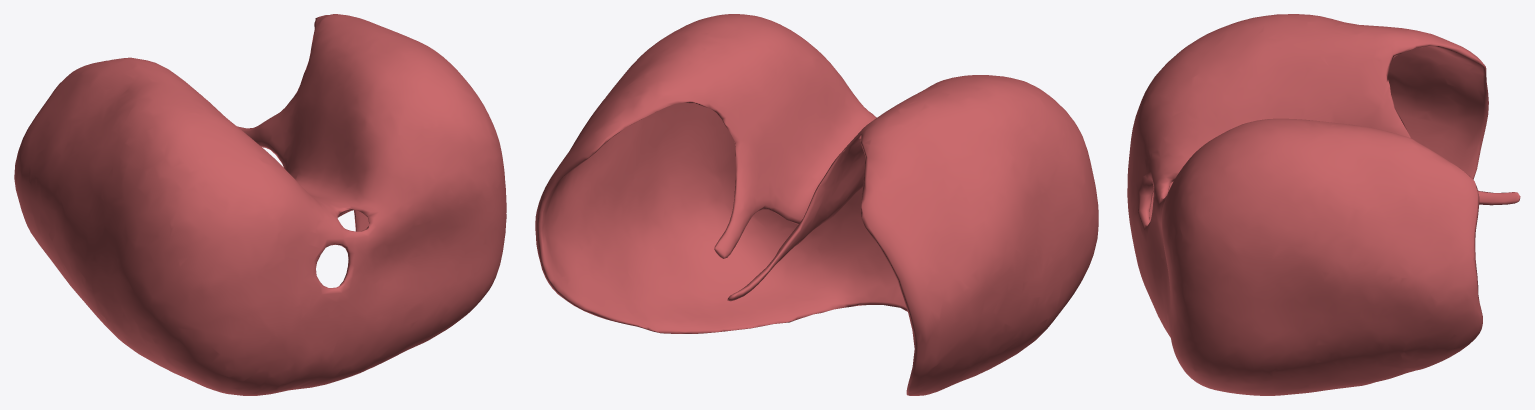
The picture shows the model from 3 angles, left to right: view 1: azimuth 30°, elevation 25°; view 2: azimuth 150°, elevation 25°; view 3: azimuth 270°, elevation 25°; orthographic projection. The views are drawn at different scales.
Parts seen in each view (by area): view 1: 膈; view 2: 膈; view 3: 膈.
Part boxes in pixels (x1,y1,x2,y2): 膈: [14, 14, 506, 395]; 膈: [535, 14, 1098, 395]; 膈: [1127, 14, 1520, 395].
Bounding box in the file's own units: 0.3696 × 0.2475 × 0.324.
